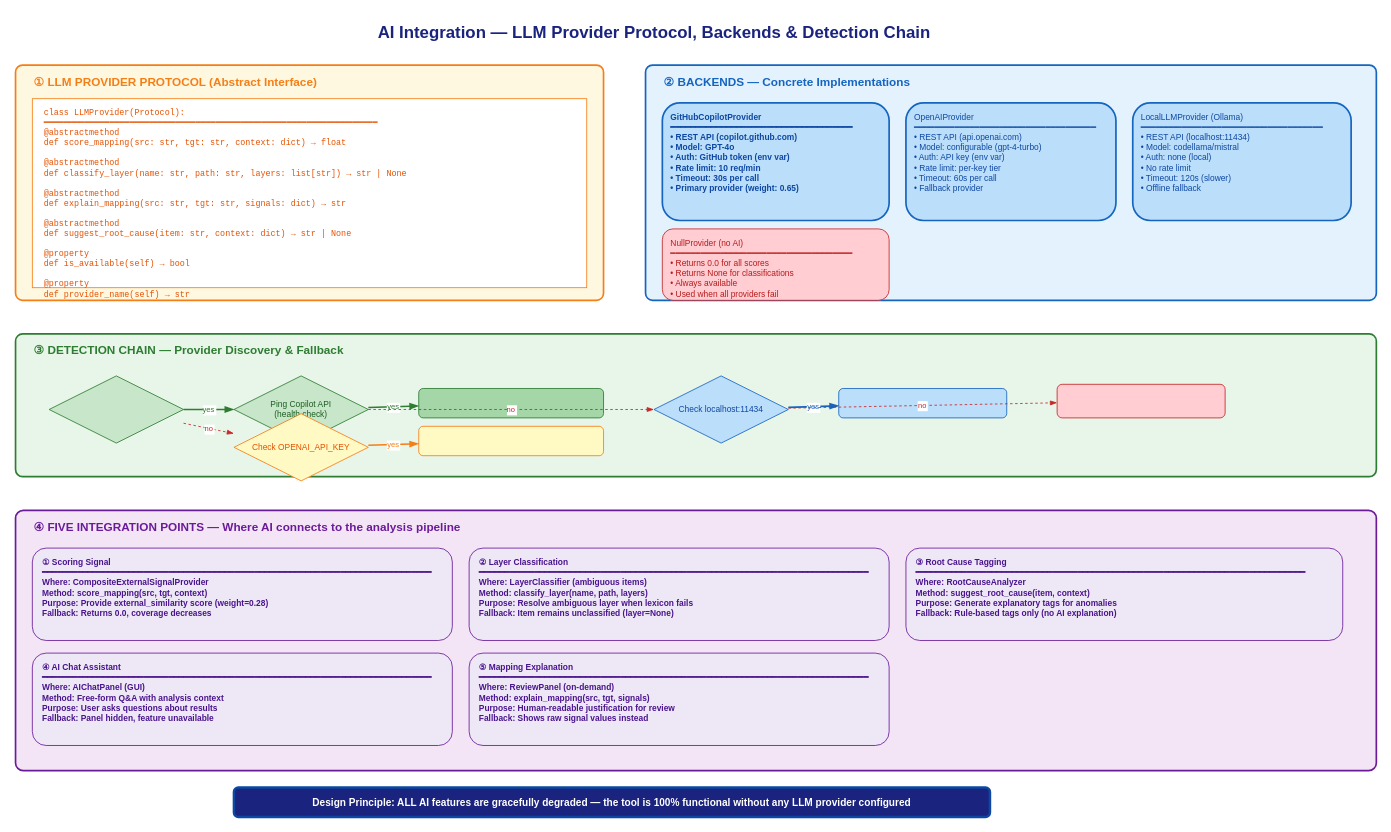
The diagram is 1391 pixels wide and 832 high, and some of its shapes have lost their labels. Here are the shapes that lost their labels. From the top down, the centre of each, then its label:
pixel 116 409: Check GITHUB_TOKEN env var
pixel 511 403: ✅ Use GitHubCopilotProvider
pixel 922 403: ✅ Use LocalLLMProvider
pixel 1140 400: ⚠️ Use NullProvider (AI features disabled)
pixel 511 440: ✅ Use OpenAIProvider
